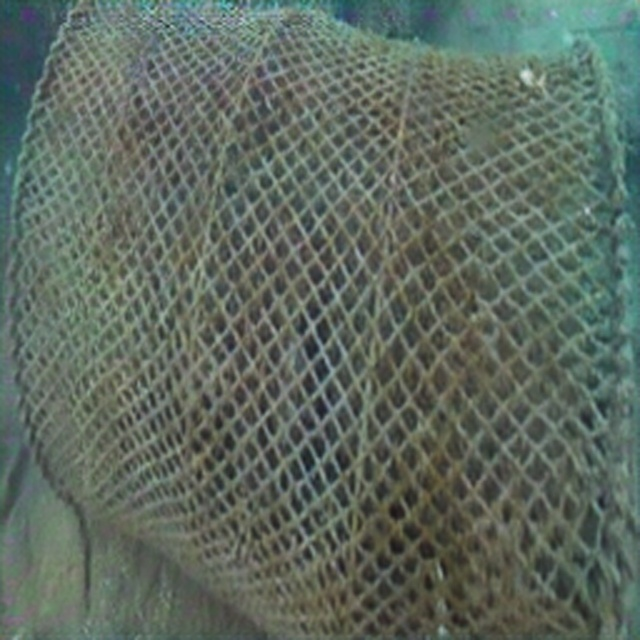mine: (8, 0, 632, 639)
